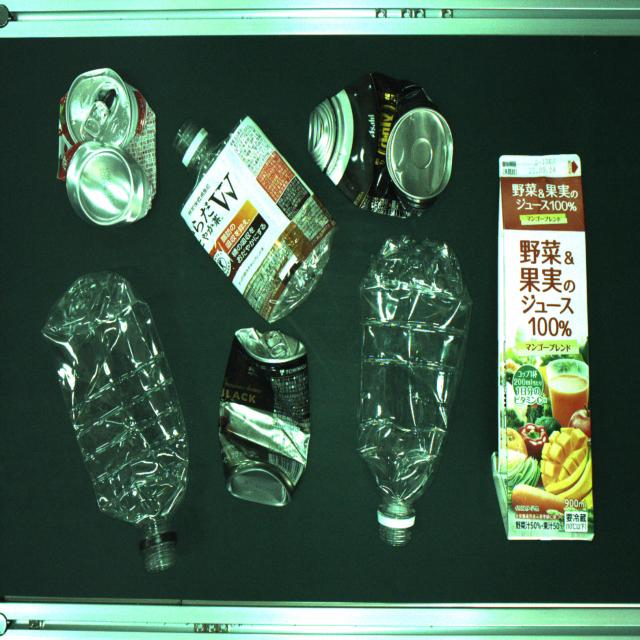Aluminium Foil: (489, 150, 593, 540)
Can: (295, 72, 455, 228), (217, 326, 314, 512), (56, 69, 157, 212)
Transparent Plastic Bottle: (42, 265, 190, 561), (166, 117, 332, 318), (358, 240, 469, 539)
